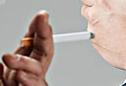smoke: (21, 31, 95, 47)
